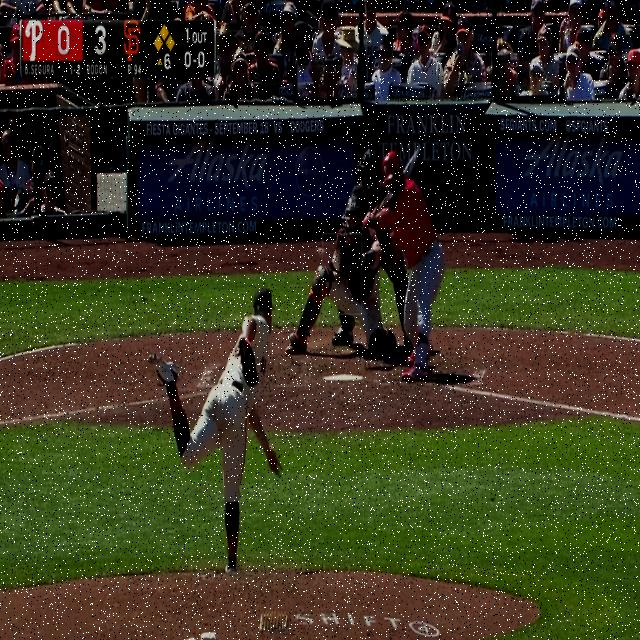baseball: (316, 247, 324, 256)
